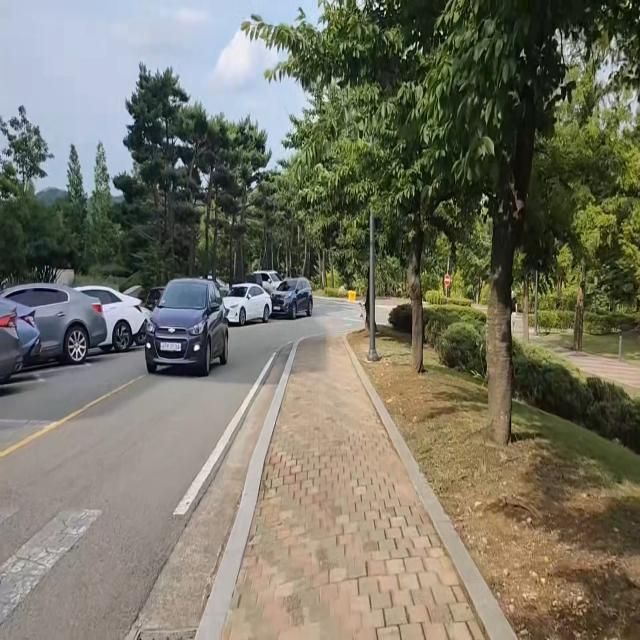obstacle: (1, 276, 146, 377), (142, 274, 234, 382), (0, 287, 49, 406)
road: (0, 315, 307, 640)
sidewalk: (198, 334, 520, 640)
